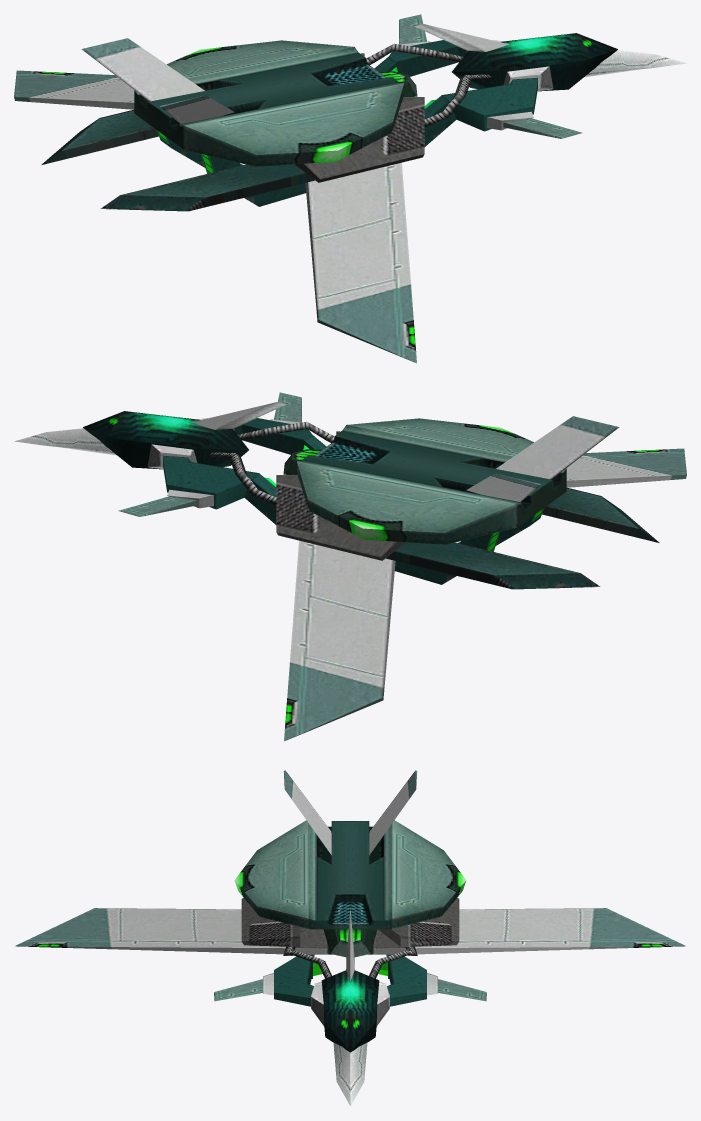
The model's file is energy-wing.glb.
3 renders of one model, top to bottom at view 1: azimuth 30°, elevation 25°; view 2: azimuth 150°, elevation 25°; view 3: azimuth 270°, elevation 25°, orthographic. The views are drawn at different scales.
Parts seen in each view (by area): view 1: SU0013; view 2: SU0013; view 3: SU0013.
Part boxes in pixels (x1,y1,x2,y2): SU0013: (14,14,686,363); SU0013: (14,392,686,741); SU0013: (15,770,685,1106).
Size of the model in its own units: 37.05 by 9.34 by 41.67.
1 material, 1 textured.
